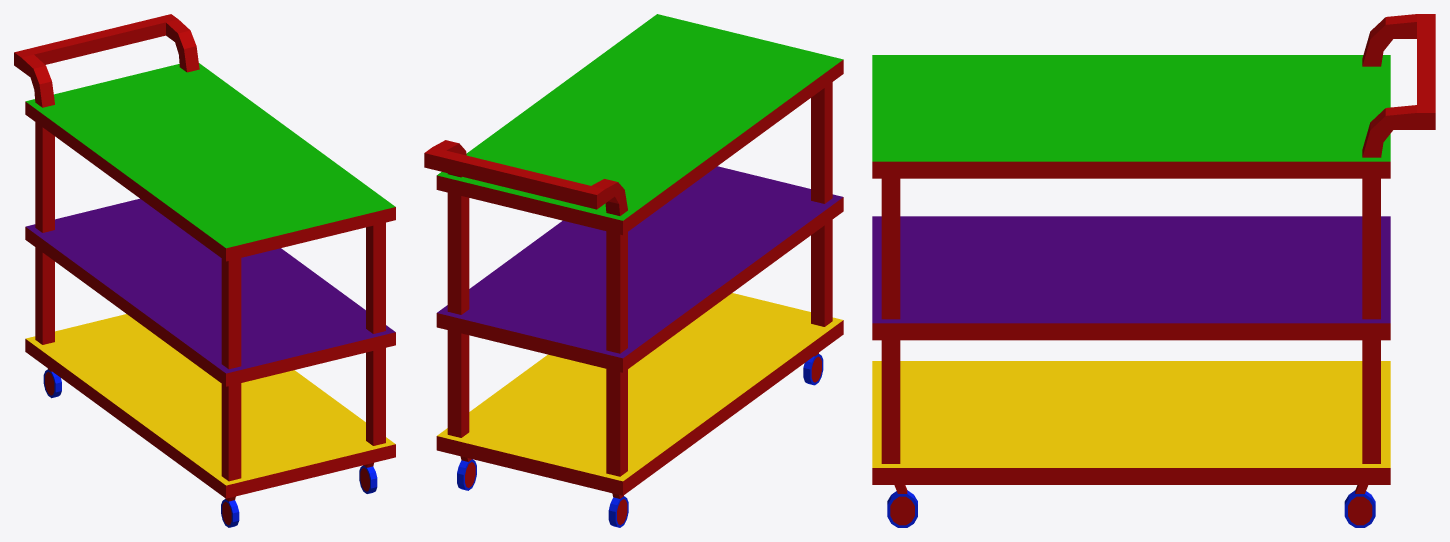
Rendered from Trolly (Fixed V2).fbx.
3 views of the same model, side by side, from view 1: azimuth 30°, elevation 25°; view 2: azimuth 150°, elevation 25°; view 3: azimuth 270°, elevation 25° (orthographic). The views are drawn at different scales.
Parts seen in each view (by area): view 1: HR0 Trolly0; view 2: HR0 Trolly0; view 3: HR0 Trolly0.
Part boxes in pixels (x1=…): HR0 Trolly0: x1=14, y1=14, x2=395, y2=527; HR0 Trolly0: x1=424, y1=14, x2=843, y2=527; HR0 Trolly0: x1=872, y1=14, x2=1435, y2=527.
Size of the model in its own units: 26.95 by 49.27 by 60.04.
